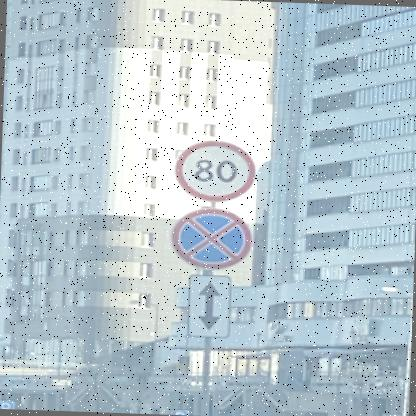speedlimit: (168, 138, 254, 200)
